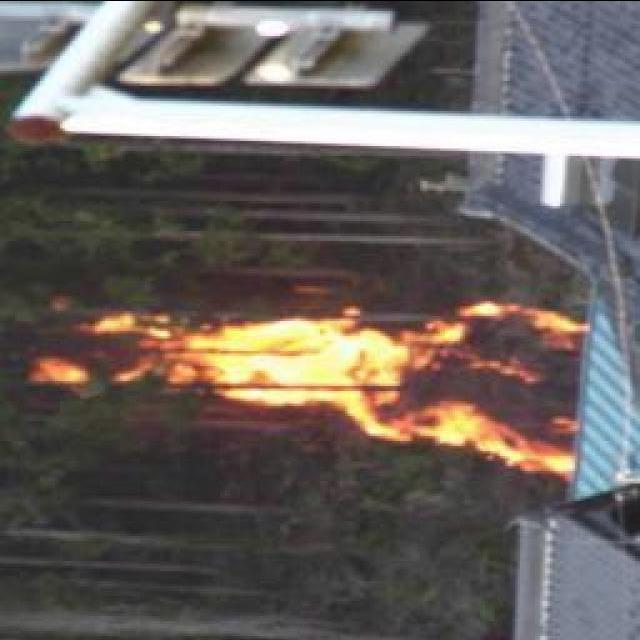Fire: (42, 300, 584, 418)
